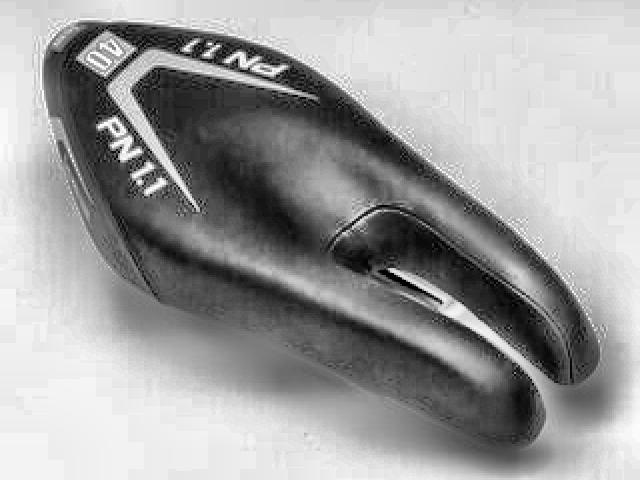saddle: (41, 15, 605, 456)
